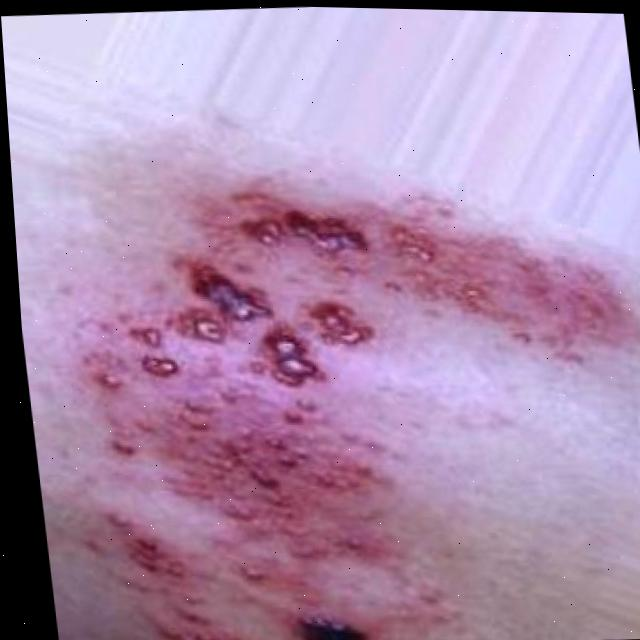Shingles: (69, 163, 640, 640)
